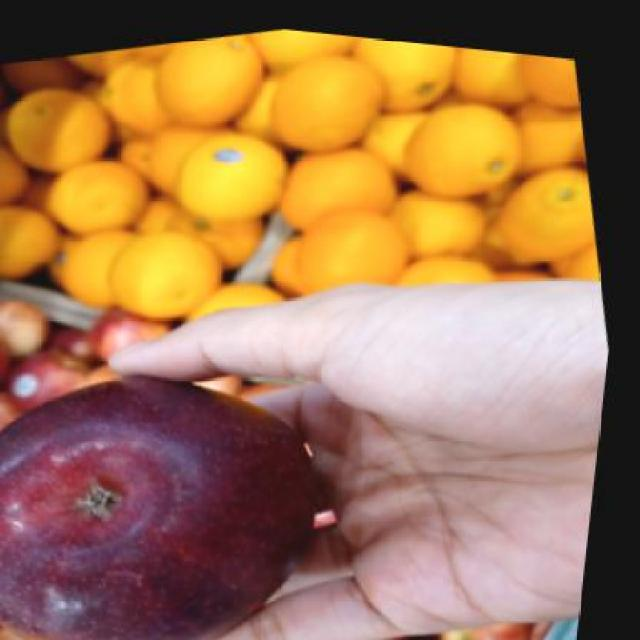Fresh Apple: (3, 374, 308, 640)
